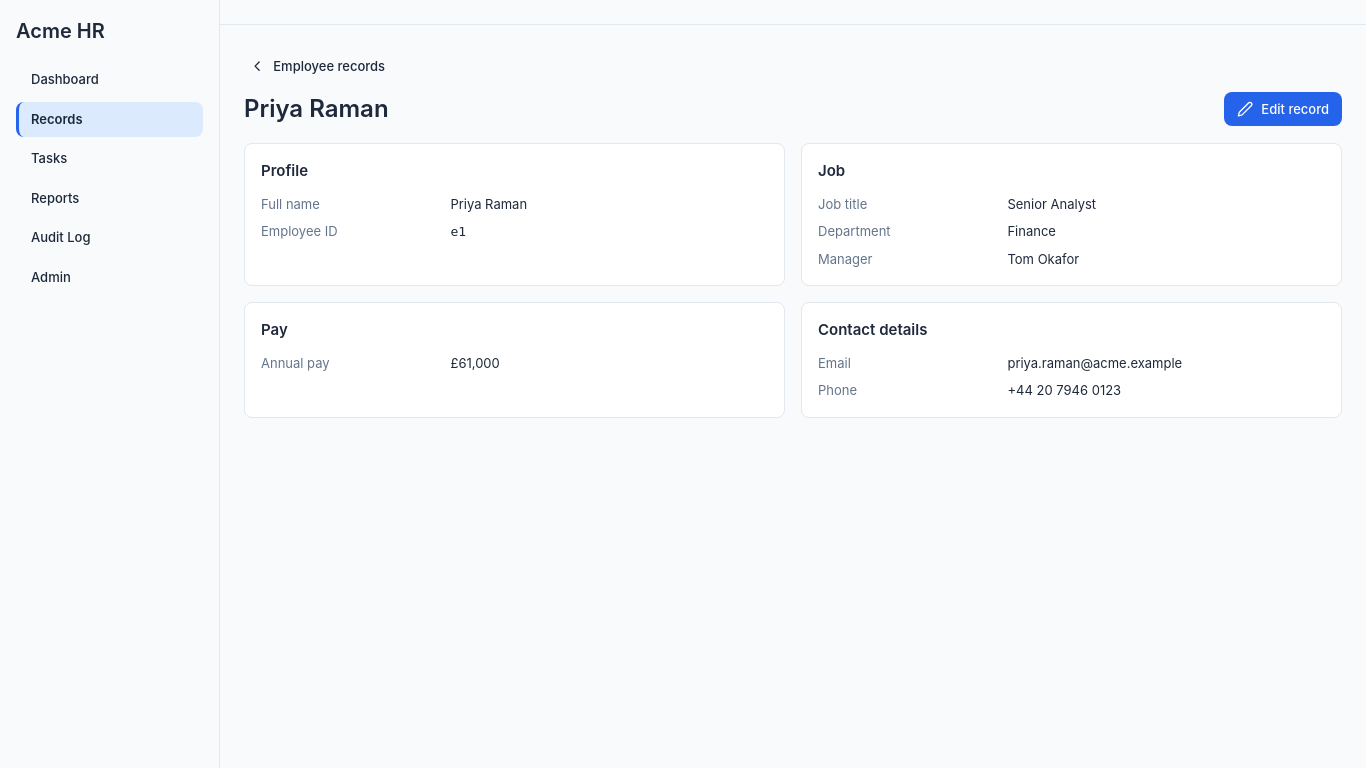
it: EmployeeRecordPage › saves a changed job title and shows only the new one (AC5, AC7)
Click the button "Edit record" at [1283, 109], box [1224,92,1342,126]
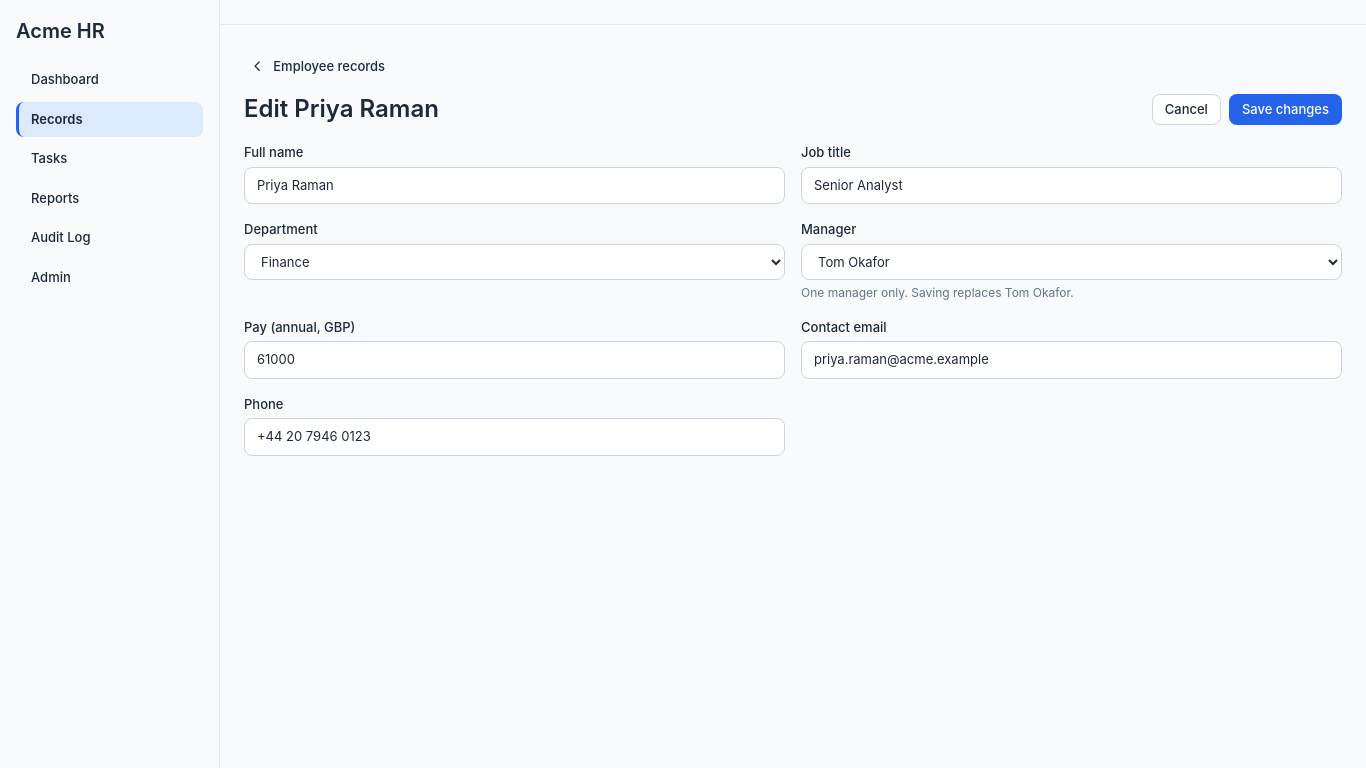
Replace the text in the field labelled "Job title" with "Principal Analyst" at [1072, 186], box [801,167,1342,204]
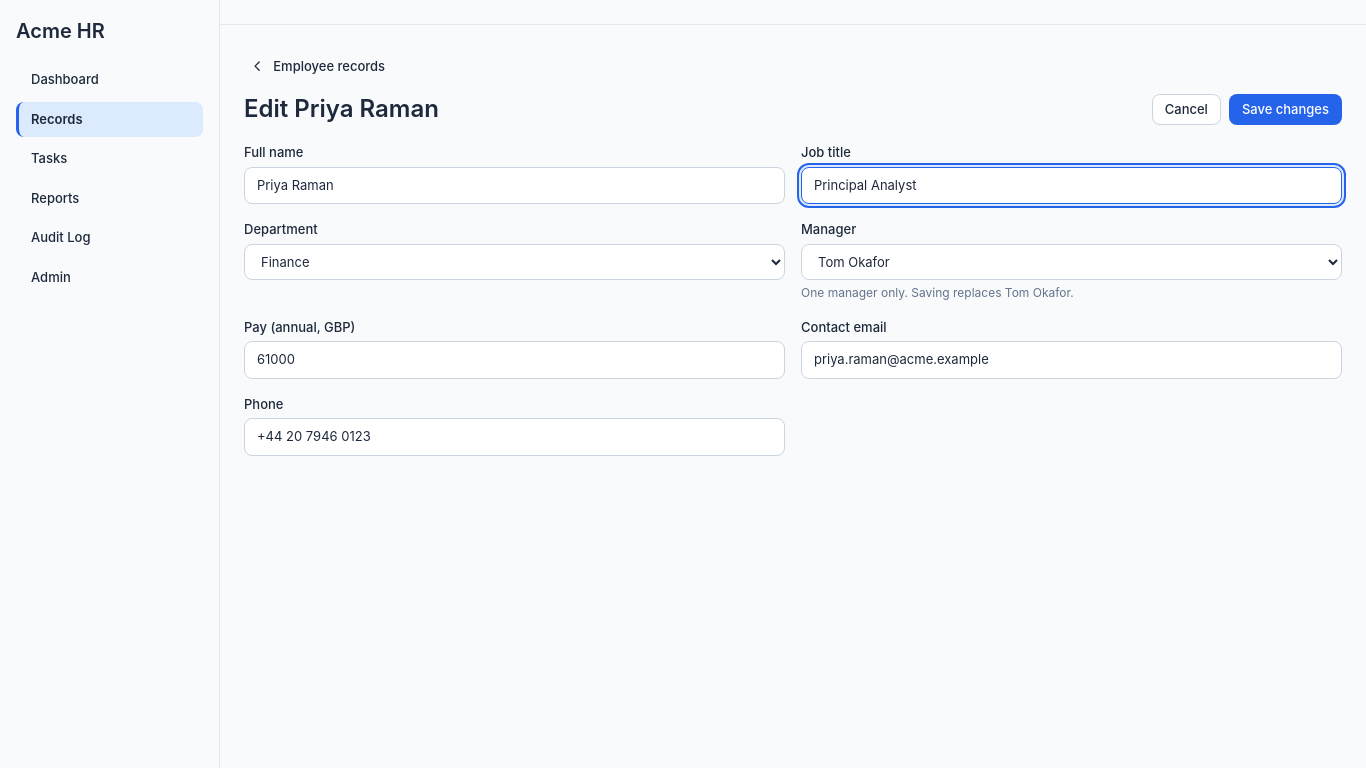
Click the button "Save changes" at [1285, 109], box [1229,94,1342,125]
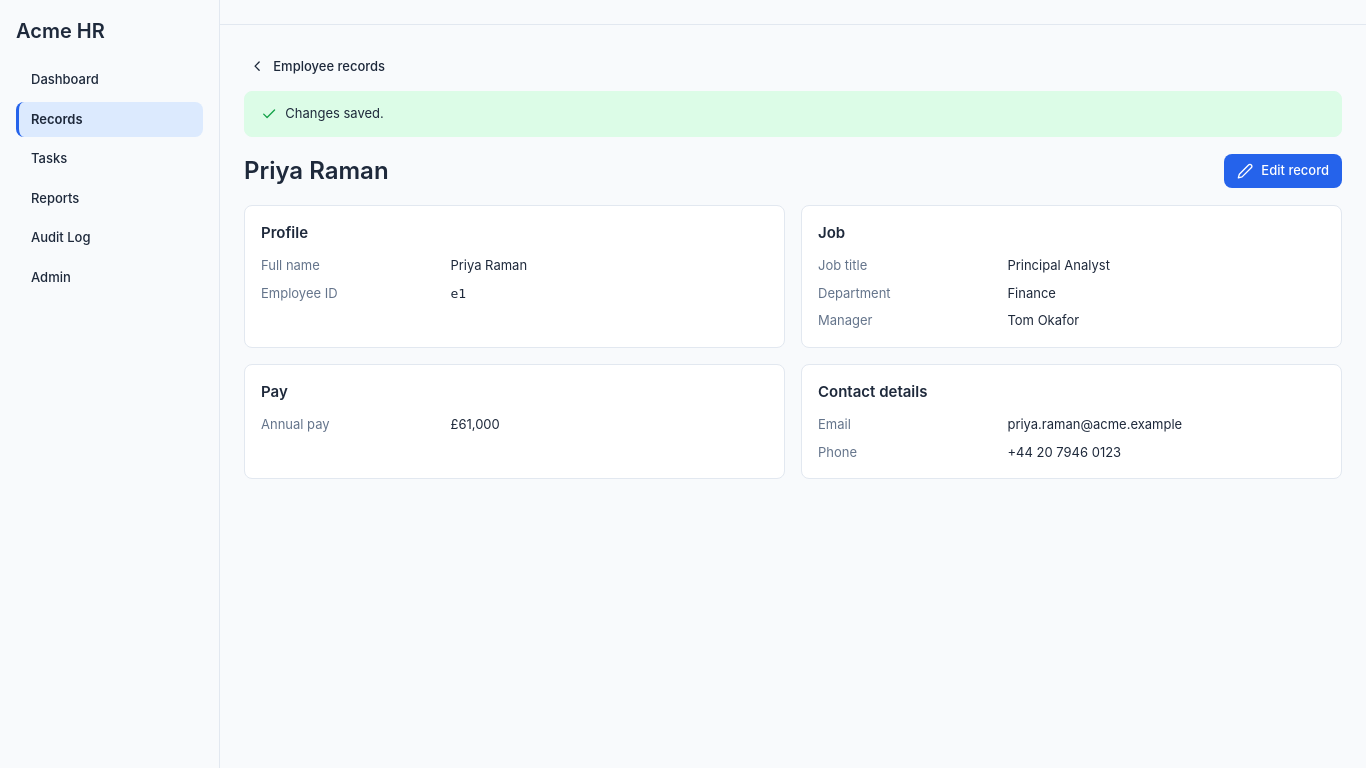
Check: the text "Senior Analyst" is not shown
Check: the text "Principal Analyst" is shown, box [1007,257,1110,273]
